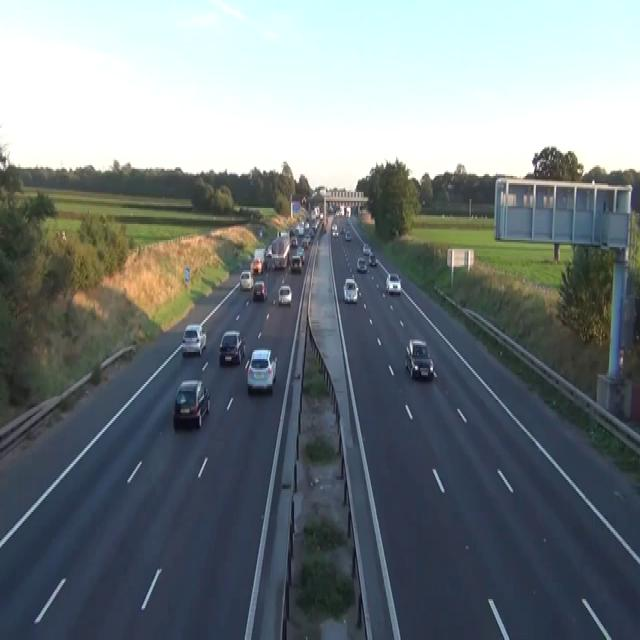Car: (173, 378, 210, 428), (245, 347, 277, 393), (404, 338, 434, 378), (218, 329, 245, 364), (181, 324, 206, 356), (343, 278, 360, 302), (385, 272, 401, 293), (252, 279, 267, 301), (278, 284, 292, 306), (239, 270, 253, 290), (290, 254, 301, 272), (251, 258, 263, 274), (296, 245, 305, 265), (356, 256, 367, 272), (54, 229, 67, 242), (368, 252, 376, 265), (362, 242, 370, 254), (331, 224, 338, 236), (298, 222, 304, 235), (344, 229, 351, 240), (265, 245, 272, 256), (301, 238, 308, 249), (278, 230, 288, 237), (290, 237, 297, 246), (327, 203, 333, 213), (309, 226, 315, 236), (331, 222, 337, 231), (340, 226, 345, 234), (301, 196, 306, 204), (304, 220, 309, 228), (319, 212, 323, 218), (259, 228, 262, 236)
Truck: (271, 231, 290, 269)
